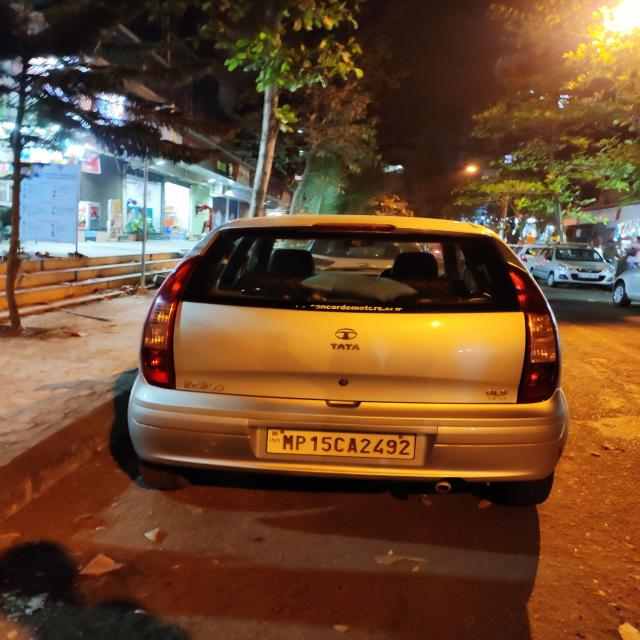Number-Plate: (268, 427, 412, 458)
